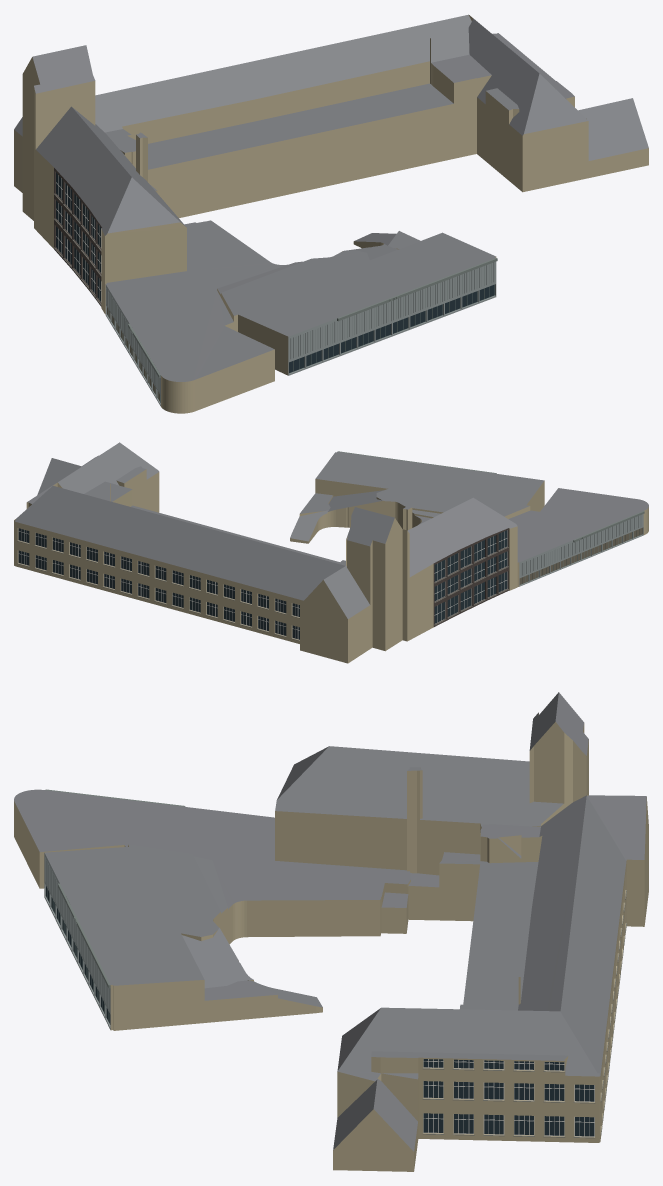
File: recipe-large-meeuwenlaan-132-101771.glb
The picture shows the model from 3 angles, top to bottom: view 1: azimuth 30°, elevation 25°; view 2: azimuth 150°, elevation 25°; view 3: azimuth 270°, elevation 25°; orthographic projection. The views are drawn at different scales.
Parts seen in each view (by area): view 1: meeuwenlaan-132-101771; view 2: meeuwenlaan-132-101771; view 3: meeuwenlaan-132-101771.
Part boxes in pixels (<box>): meeuwenlaan-132-101771: <box>14,14,648,413</box>; meeuwenlaan-132-101771: <box>14,442,648,663</box>; meeuwenlaan-132-101771: <box>14,692,648,1171</box>.
Bounding box in the file's own units: 109 × 27.47 × 84.28.
